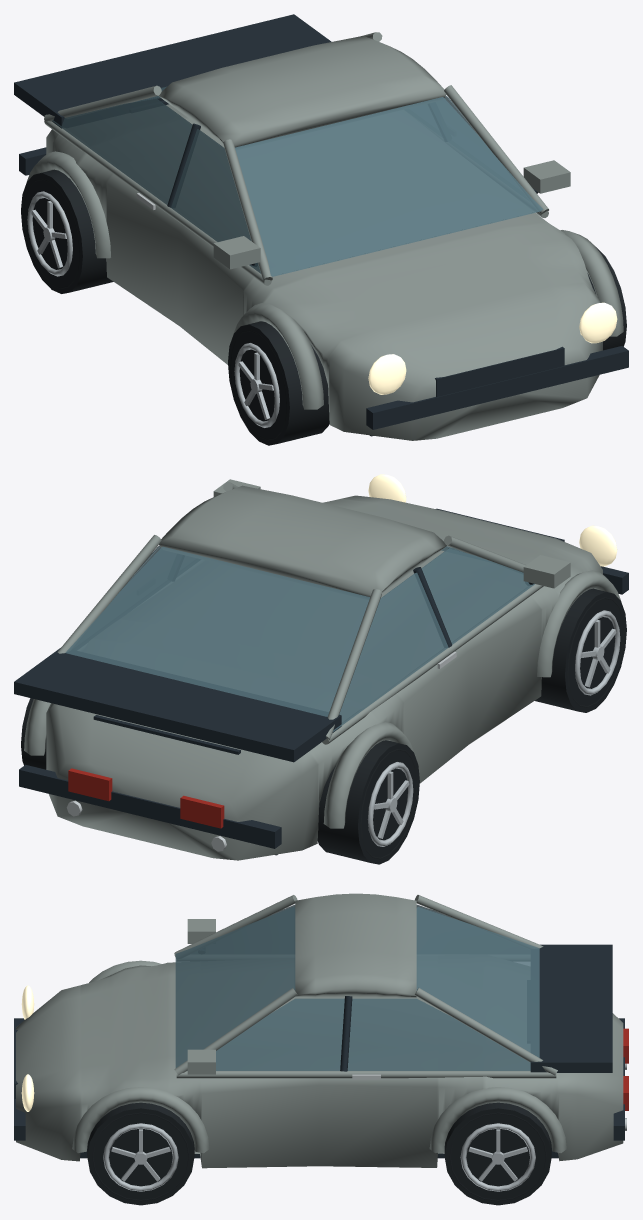
Rendered from neun.glb.
3 views of the same model, one above another, from view 1: azimuth 30°, elevation 25°; view 2: azimuth 150°, elevation 25°; view 3: azimuth 270°, elevation 25° (orthographic). The views are drawn at different scales.
Parts seen in each view (by area): view 1: exterior-paint, windows, black-trim, tire-front-left, tire-rear-left, headlights, rim-front-left, rim-rear-left, tire-front-right; view 2: exterior-paint, windows, black-trim, tire-rear-left, tire-front-left, taillights, rim-rear-left, rim-front-left, headlights, tire-rear-right; view 3: exterior-paint, windows, black-trim, tire-rear-right, tire-front-right, rim-rear-right, rim-front-right, headlights.
Boxes of the visible parts, <box> form: exterior-paint: <box>27,32,623,440</box>; windows: <box>52,86,543,276</box>; black-trim: <box>14,14,628,436</box>; tire-front-left: <box>228,321,329,445</box>; tire-rear-left: <box>21,169,113,293</box>; headlights: <box>368,302,617,394</box>; rim-front-left: <box>234,343,279,427</box>; rim-rear-left: <box>27,191,72,276</box>; tire-front-right: <box>587,246,626,350</box>; exterior-paint: <box>24,479,620,860</box>; windows: <box>65,545,534,731</box>; black-trim: <box>14,508,628,855</box>; tire-rear-left: <box>317,740,419,864</box>; tire-front-left: <box>535,588,626,712</box>; taillights: <box>68,768,224,828</box>; rim-rear-left: <box>367,762,413,846</box>; rim-front-left: <box>575,610,620,695</box>; headlights: <box>368,474,617,566</box>; tire-rear-right: <box>21,698,46,769</box>; exterior-paint: <box>16,893,623,1168</box>; windows: <box>175,904,539,1070</box>; black-trim: <box>14,944,624,1158</box>; tire-rear-right: <box>444,1102,551,1205</box>; tire-front-right: <box>87,1102,194,1205</box>; rim-rear-right: <box>460,1123,535,1191</box>; rim-front-right: <box>103,1123,178,1191</box>; headlights: <box>21,985,34,1111</box>.
Bounding box in the file's own units: 1.93 × 1.25 × 3.44.
